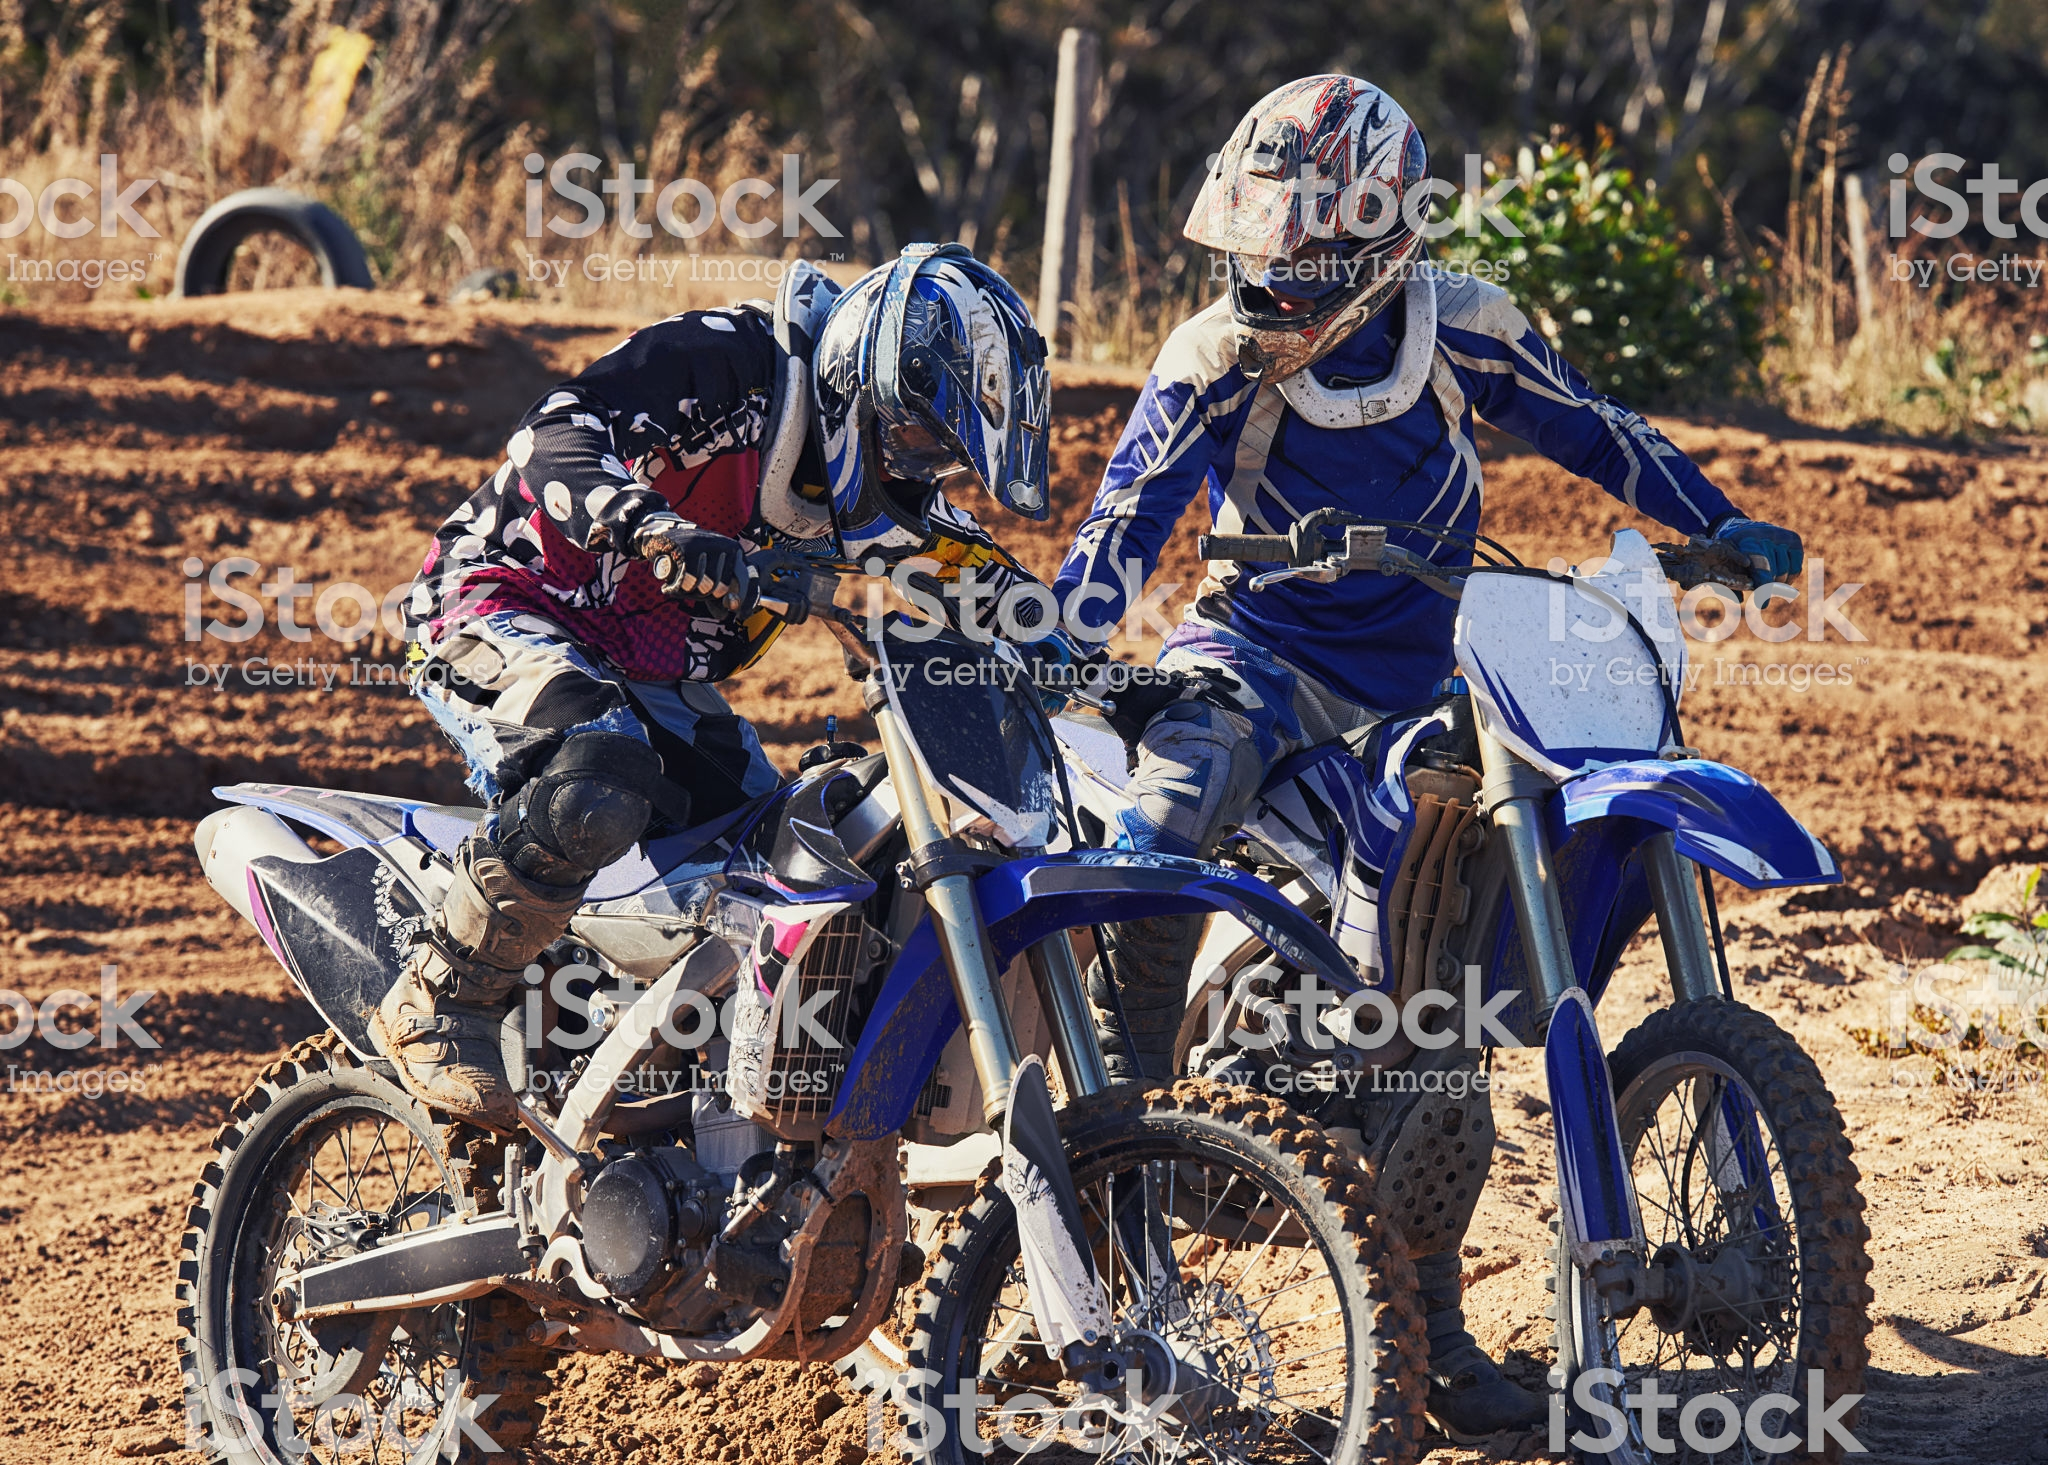helmet: (1186, 97, 1492, 349), (805, 251, 1060, 499)
